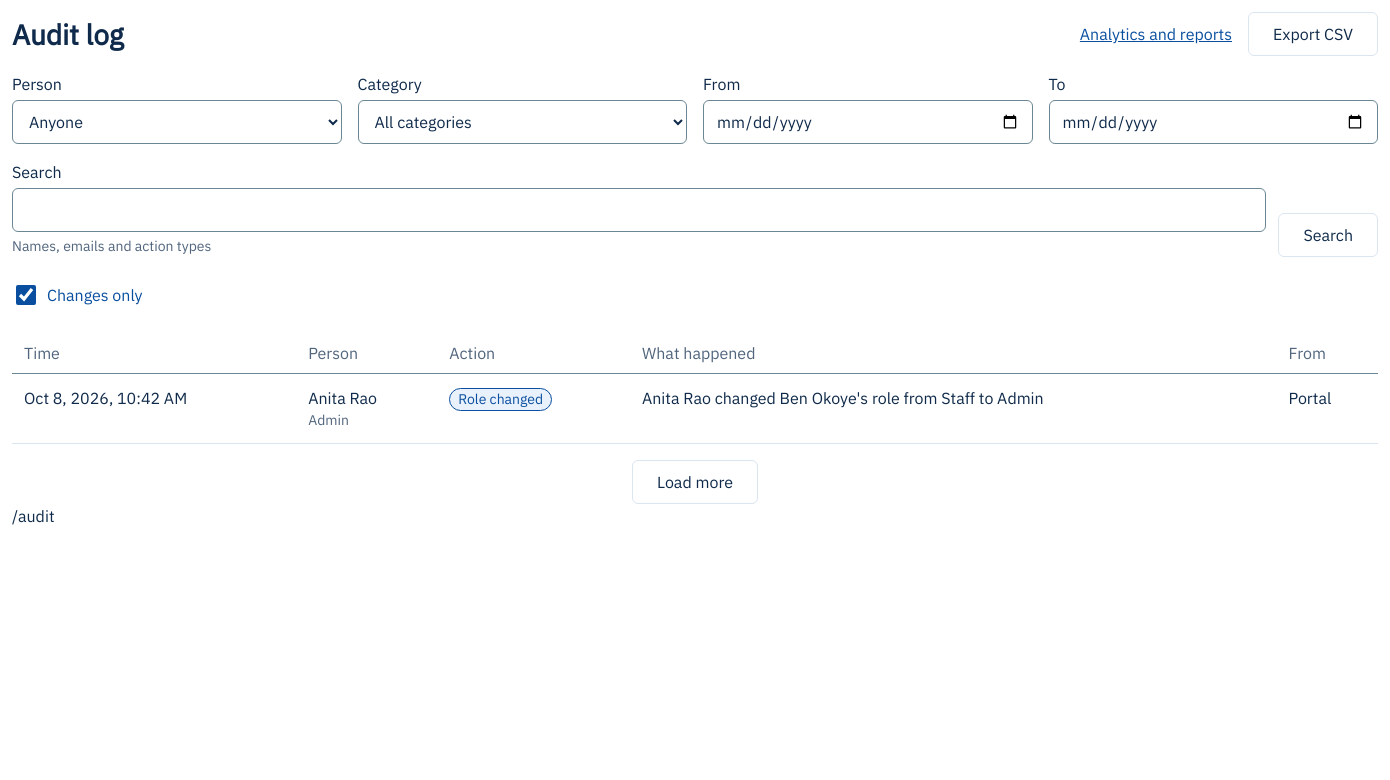
Scenario: AuditPage › list › loads more with the cursor, appends, and hides the button on the last page
Click the button "Load more" at coordinates (695, 482), box [632,460,758,504]
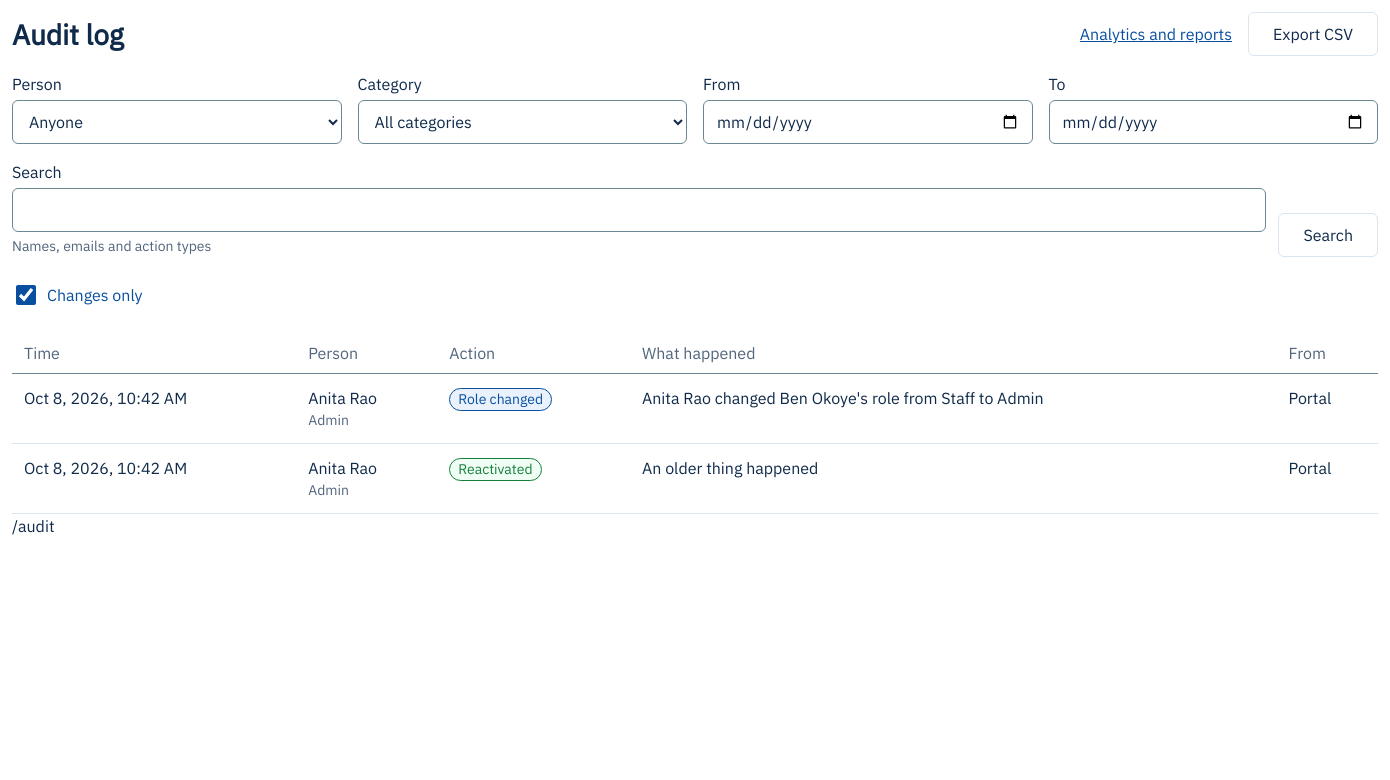
Expected: the button "Anita Rao changed Ben Okoye's role from Staff to Admin" is shown, [642,386,1044,410]
Now the button "An older thing happened" is shown, box [642,456,818,480]
Now the button "Load more" is gone
